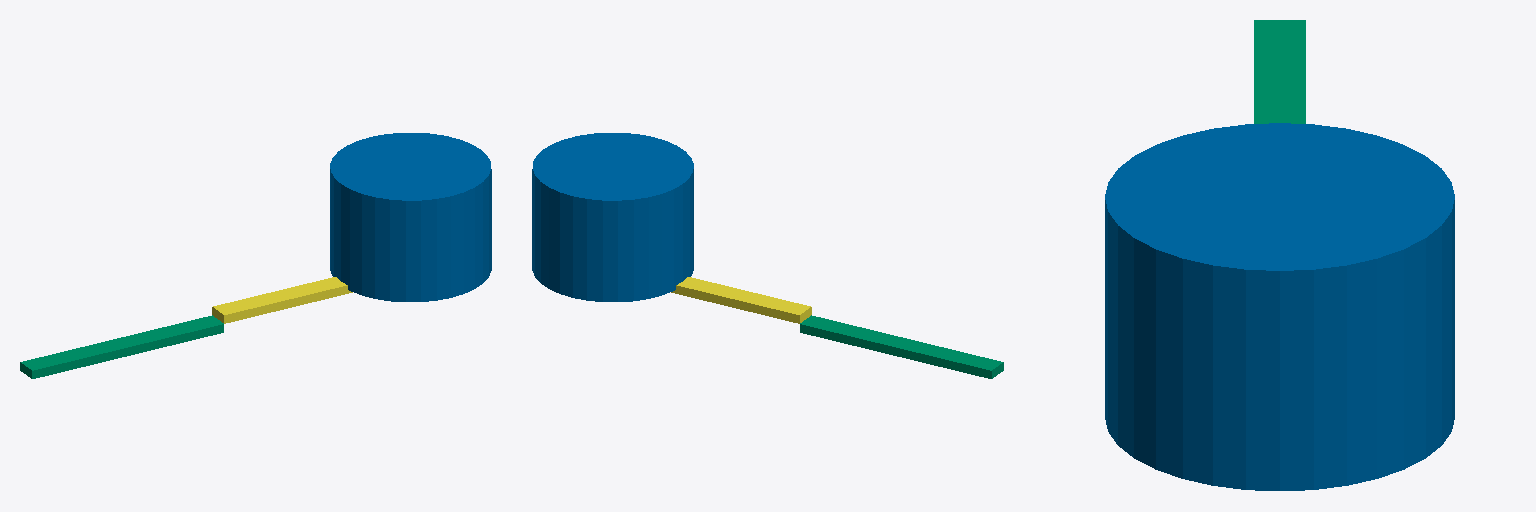
URDF robot description (agent):
<?xml version="1.0"?>
<!--
  ALBC URDF - Active Linear Buoyancy Controller (ALBC) Robot
  Author: Taesik Kim
  Last revision: 2025-02-02
  Version: 1.1.0

  Structure:
    base (main body) - gripper (fixed)
                     - joint1 (revolute) - link1 (arm1)
                                         - joint2 (revolute) - link2 (arm2)
                                                             - buoy_fixer (fixed) - link3 (buoy)

  Physical Properties:
    - Total mass: ~10.61 kg (base: 9.18, gripper: 0.3, links: 0.2, buoy: 0.93)
    - Water density: 998 kg/m3 (freshwater)
    - Net buoyancy: ~+10 N (positive buoyancy, main 88.1 + buoy 26.2 - weight 104.1)
-->
<robot name="agent">

  <!-- ========== MATERIALS ========== -->
  <material name="black"><color rgba="0.0 0.0 0.0 1.0"/></material>
  <material name="blue"><color rgba="0.0 0.0 0.8 1.0"/></material>
  <material name="green"><color rgba="0.0 0.8 0.0 1.0"/></material>
  <material name="grey"><color rgba="0.2 0.2 0.2 1.0"/></material>
  <material name="silver"><color rgba="0.914 0.914 0.847 1.0"/></material>
  <material name="orange"><color rgba="1.0 0.424 0.039 1.0"/></material>
  <material name="brown"><color rgba="0.871 0.812 0.765 1.0"/></material>
  <material name="red"><color rgba="0.8 0.0 0.0 1.0"/></material>
  <material name="white"><color rgba="1.0 1.0 1.0 1.0"/></material>
  <material name="cobaltblue"><color rgba="0.0 0.278 0.671 1.0"/></material>

  <!-- ========== BASE LINK (Main Body) ========== -->
  <!-- Cylinder: R=0.09m, L=0.325m, mass=9.18kg -->
  <!-- CoG offset (0,0,-0.05) for passive stability (CoG below CoB) -->
  <link name="base">
    <visual>
      <origin xyz="0 0 -0.02" rpy="3.14159 0 1.0472"/>
      <geometry>
        <mesh filename="agent_body.obj" scale="1 1 1"/>
      </geometry>
    </visual>
    <collision>
      <origin xyz="0 0 0" rpy="0 0 0"/>
      <geometry>
        <cylinder radius="0.09" length="0.325"/>
      </geometry>
    </collision>
    <inertial>
      <origin xyz="0 0 -0.05" rpy="0 0 0"/>
      <mass value="9.18"/>
      <inertia ixx="0.0994" ixy="0" ixz="0" iyy="0.0994" iyz="0" izz="0.0372"/>
    </inertial>
  </link>

  <!-- ========== GRIPPER ========== -->
  <!-- Fixed to base, mass=0.3kg -->
  <link name="gripper">
    <visual>
      <origin xyz="0 0 -0.02" rpy="2.9671 0 0"/>
      <geometry>
        <mesh filename="gripper_set.obj" scale="1 1 1"/>
      </geometry>
    </visual>
    <collision>
      <origin xyz="0 0 0" rpy="-0.1745 0 0"/>
      <geometry>
        <cylinder radius="0.015" length="0.325"/>
      </geometry>
    </collision>
    <inertial>
      <origin xyz="0 0 0" rpy="0 0 0"/>
      <mass value="0.3"/>
      <inertia ixx="0.00266" ixy="0" ixz="0" iyy="0.00266" iyz="0" izz="0.00003375"/>
    </inertial>
  </link>

  <joint name="base_to_gripper" type="fixed">
    <parent link="base"/>
    <child link="gripper"/>
    <origin xyz="0 0.0881 -0.185" rpy="0 0 0"/>
  </joint>

  <!-- ========== ALBC (Active Linear Buoyancy Controller) ========== -->
  <!-- 2-DOF revolute arm with buoy for attitude control -->

  <!-- Joint1: Base to Link1 (Z-axis rotation, continuous for cable-aware constraint) -->
  <joint name="joint1" type="continuous">
    <parent link="base"/>
    <child link="link1"/>
    <origin xyz="0 0 0.1625" rpy="0 0 0"/>
    <axis xyz="0 0 1"/>
    <dynamics damping="0.7" friction="1"/>
    <limit effort="200" velocity="30"/>
  </joint>

  <!-- Link1: First arm segment -->
  <!-- Box: 0.233 x 0.025 x 0.01 m, mass=0.1kg -->
  <link name="link1">
    <visual>
      <origin xyz="0.116 0 0.01" rpy="0 0 0"/>
      <geometry>
        <box size="0.233 0.025 0.01"/>
      </geometry>
    </visual>
    <collision>
      <origin xyz="0.116 0 0.01" rpy="0 0 0"/>
      <geometry>
        <box size="0.233 0.025 0.01"/>
      </geometry>
    </collision>
    <inertial>
      <origin xyz="0.116 0 0.01" rpy="0 0 0"/>
      <mass value="0.1"/>
      <inertia ixx="0.00000604" ixy="0" ixz="0" iyy="0.00045324" iyz="0" izz="0.00045762"/>
    </inertial>
  </link>

  <!-- Joint2: Link1 to Link2 (Z-axis rotation, continuous rotation motor) -->
  <joint name="joint2" type="continuous">
    <parent link="link1"/>
    <child link="link2"/>
    <origin xyz="0.233 0 0.01" rpy="0 0 0"/>
    <axis xyz="0 0 1"/>
    <dynamics damping="0.7" friction="1"/>
    <limit effort="200" velocity="30"/>
  </joint>

  <!-- Link2: Second arm segment -->
  <!-- Box: 0.233 x 0.025 x 0.01 m, mass=0.1kg -->
  <link name="link2">
    <visual>
      <origin xyz="0.116 0 0.01" rpy="0 0 0"/>
      <geometry>
        <box size="0.233 0.025 0.01"/>
      </geometry>
    </visual>
    <collision>
      <origin xyz="0.116 0 0.01" rpy="0 0 0"/>
      <geometry>
        <box size="0.233 0.025 0.01"/>
      </geometry>
    </collision>
    <inertial>
      <origin xyz="0.116 0 0.01" rpy="0 0 0"/>
      <mass value="0.1"/>
      <inertia ixx="0.00000604" ixy="0" ixz="0" iyy="0.00045324" iyz="0" izz="0.00045762"/>
    </inertial>
  </link>

  <!-- Buoy Fixer: Link2 to Buoy (fixed) -->
  <joint name="buoy_fixer" type="fixed">
    <parent link="link2"/>
    <child link="link3"/>
    <origin xyz="0.233 0 0.01" rpy="0 0 0"/>
  </joint>

  <!-- Link3 (Buoy): Positive buoyancy element -->
  <!-- Cylinder: R=0.085m, H=0.118m, mass=0.93kg -->
  <!-- Volume: pi * 0.085^2 * 0.118 = 0.00268 m^3 -->
  <!-- Buoyancy force: 998 * 9.81 * 0.00268 = 26.24 N -->
  <!-- Weight: 0.93 * 9.81 = 9.12 N -->
  <!-- Net buoyancy: +17.12 N (floats) -->
  <!-- System net force: ~+10 N (positive buoyancy) -->
  <link name="link3">
    <visual>
      <origin xyz="0 0 0.059" rpy="0 0 0"/>
      <geometry>
        <cylinder radius="0.085" length="0.118"/>
      </geometry>
    </visual>
    <collision>
      <origin xyz="0 0 0.059" rpy="0 0 0"/>
      <geometry>
        <cylinder radius="0.085" length="0.118"/>
      </geometry>
    </collision>
    <inertial>
      <origin xyz="0 0 0.059" rpy="0 0 0"/>
      <mass value="0.93"/>
      <!-- Cylinder inertia: Ixx=Iyy=(1/12)*m*(3r^2+h^2), Izz=(1/2)*m*r^2 -->
      <!-- Updated for H=0.118m: Ixx=Iyy=(1/12)*0.93*(3*0.085^2+0.118^2)=0.00278 -->
      <inertia ixx="0.00278" ixy="0" ixz="0" iyy="0.00278" iyz="0" izz="0.00336"/>
    </inertial>
  </link>

</robot>

--- Facts derived from the render (not from the file) ---
Views: 3 orthographic renders of the robot side by side, from view 1: azimuth 30°, elevation 25°; view 2: azimuth 150°, elevation 25°; view 3: azimuth 270°, elevation 25°.
Robot: agent — 5 links, 4 joints (2 continuous, 2 fixed); root link base; default pose: all joints at 0.
Links seen in each view (by area): view 1: link3, link1, link2; view 2: link3, link1, link2; view 3: link3, link1.
Boxes of the visible links, x1=… form: link3: x1=330, y1=133, x2=491, y2=301; link1: x1=20, y1=315, x2=223, y2=378; link2: x1=212, y1=277, x2=352, y2=323; link3: x1=532, y1=133, x2=693, y2=301; link1: x1=800, y1=315, x2=1003, y2=378; link2: x1=671, y1=277, x2=811, y2=323; link3: x1=1105, y1=123, x2=1454, y2=490; link1: x1=1254, y1=20, x2=1305, y2=123.
Size in the robot's own frame: 0.5515 by 0.17 by 0.133 metres.
Meshes: 2 distinct files referenced, 0 mesh visuals loaded (none loaded); not drawn: 2 (file found but could not be loaded).
